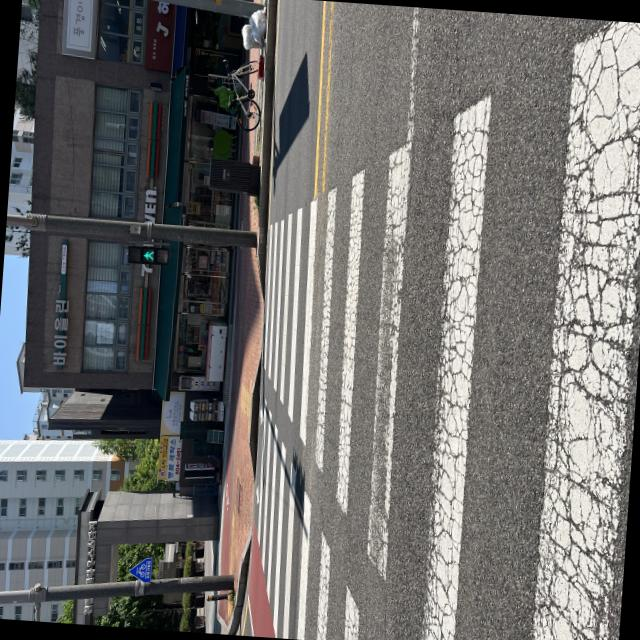green_light: (125, 238, 173, 268)
zebra: (236, 0, 640, 640)
